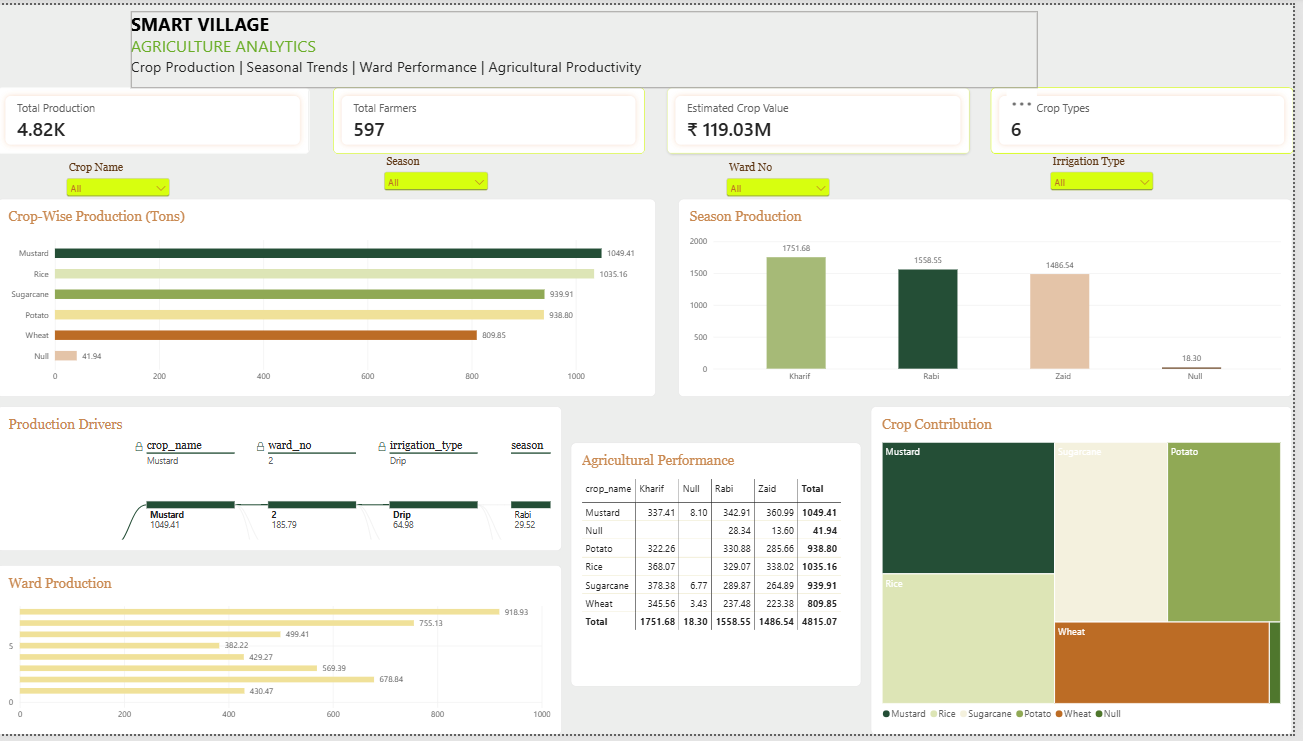

The page's visual inventory and layout, read from the dashboard file:
{"tool":"powerbi","page":{"name":"Dashboard","canvas":[1920,1080],"ordinal":0},"visuals":[{"type":"cardVisual","fields":{"Data":["KPI_Measures.Total Production"]},"box":[0,121.4,462.9,98.6],"z":0},{"type":"cardVisual","fields":{"Data":["KPI_Measures.Total Farmers"]},"box":[498.6,121.4,461.4,98.6],"z":1000},{"type":"cardVisual","fields":{"Data":["KPI_Measures.Total Crop Types"]},"box":[1471.4,121.4,448.6,98.6],"z":2000},{"type":"cardVisual","fields":{"Data":["KPI_Measures.Estimated Crop Value"]},"box":[992.9,121.4,448.6,98.6],"z":3000},{"type":"clusteredBarChart","title":"Crop-Wise Production (Tons)","fields":{"Category":["Agriculture_Data.crop_name"],"Y":["KPI_Measures.Total Production"]},"box":[0,287.1,975.8,293.5],"z":4000},{"type":"clusteredColumnChart","title":"Season Production","fields":{"Category":["Agriculture_Data.season"],"Y":["KPI_Measures.Total Production"]},"box":[1009.7,287.1,909.7,293.5],"z":5000},{"type":"clusteredBarChart","title":"Ward Production","fields":{"Category":["Agriculture_Data.ward_no"],"Y":["KPI_Measures.Total Production"]},"box":[0,829,837.1,251.6],"z":6000},{"type":"slicer","fields":{"Values":["Agriculture_Data.crop_name"]},"box":[98.4,230.6,162.9,62.9],"z":7000},{"type":"slicer","fields":{"Values":["Agriculture_Data.season"]},"box":[569.4,222.6,164.5,64.5],"z":8000},{"type":"slicer","fields":{"Values":["Agriculture_Data.ward_no"]},"box":[1075.8,230.6,162.9,62.9],"z":9000},{"type":"slicer","fields":{"Values":["Agriculture_Data.irrigation_type"]},"box":[1554.8,222.6,162.9,64.5],"z":10000},{"type":"textbox","box":[198.9,8.8,1342.9,113.2],"z":11000},{"type":"pivotTable","title":"Agricultural Performance","fields":{"Columns":["Agriculture_Data.season"],"Rows":["Agriculture_Data.crop_name"],"Values":["KPI_Measures.Total Production"]},"box":[850,648.4,430.6,361.3],"z":12000},{"type":"treemap","title":"Crop Contribution","fields":{"Group":["Agriculture_Data.crop_name"],"Values":["KPI_Measures.Total Production"]},"box":[1295.2,593.5,624.2,487.1],"z":13000},{"type":"decompositionTreeVisual","title":"Production Drivers","fields":{"Analyze":["KPI_Measures.Total Production"],"ExplainBy":["Agriculture_Data.crop_name","Agriculture_Data.ward_no","Agriculture_Data.irrigation_type","Agriculture_Data.season"]},"box":[0,593.5,837.1,214.5],"z":14000}]}

Visuals, with their boxes in screenshot pixels (x1, y1, x2, y2), scaled from the page's 1920x1080 canvas onto the 1303x741 screenshot:
cardVisual - KPI_Measures.Total Production: bbox=(0, 83, 314, 151)
cardVisual - KPI_Measures.Total Farmers: bbox=(338, 83, 652, 151)
cardVisual - KPI_Measures.Total Crop Types: bbox=(999, 83, 1302, 151)
cardVisual - KPI_Measures.Estimated Crop Value: bbox=(674, 83, 978, 151)
"Crop-Wise Production (Tons)" clusteredBarChart: bbox=(0, 197, 662, 398)
"Season Production" clusteredColumnChart: bbox=(685, 197, 1302, 398)
"Ward Production" clusteredBarChart: bbox=(0, 569, 568, 740)
slicer - Agriculture_Data.crop_name: bbox=(67, 158, 177, 201)
slicer - Agriculture_Data.season: bbox=(386, 153, 498, 197)
slicer - Agriculture_Data.ward_no: bbox=(730, 158, 841, 201)
slicer - Agriculture_Data.irrigation_type: bbox=(1055, 153, 1166, 197)
textbox: bbox=(135, 6, 1046, 84)
"Agricultural Performance" pivotTable: bbox=(577, 445, 869, 693)
"Crop Contribution" treemap: bbox=(879, 407, 1302, 740)
"Production Drivers" decompositionTreeVisual: bbox=(0, 407, 568, 554)
